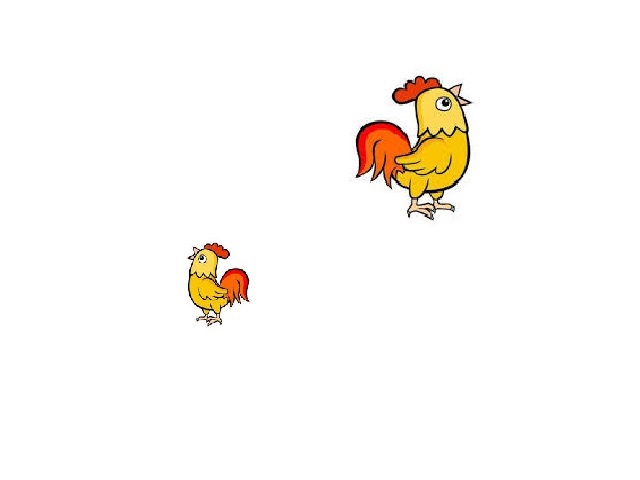crown: (388, 74, 442, 102), (203, 242, 230, 258)
eyes: (432, 97, 455, 111), (199, 254, 208, 265)
feet: (406, 199, 459, 222), (195, 311, 224, 327)
tail: (353, 120, 412, 184), (219, 268, 252, 306)
